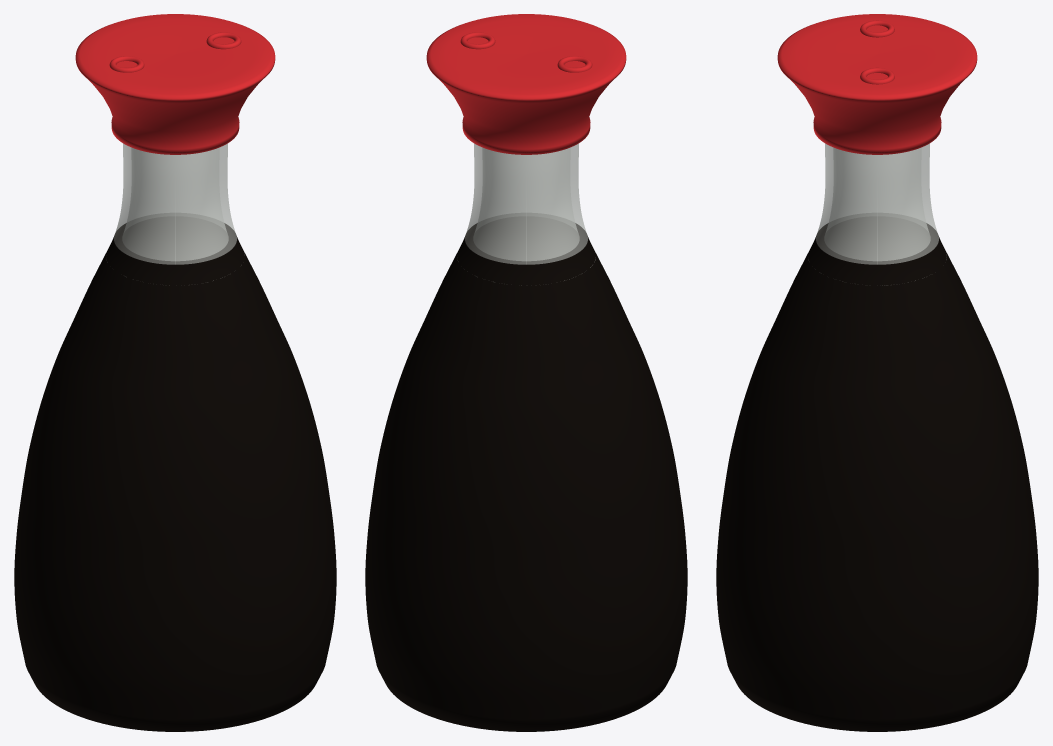
The model's file is sojasaucen-flasche_V5.glb.
3 views of the same model, side by side, from view 1: azimuth 30°, elevation 25°; view 2: azimuth 150°, elevation 25°; view 3: azimuth 270°, elevation 25° (orthographic).
Visible parts, largest first — view 1: bottle_body, cap, bottle_neck; view 2: bottle_body, cap, bottle_neck; view 3: bottle_body, cap, bottle_neck.
Boxes of the visible parts, left/top/right/bottom form: bottle_body: left=14, top=216, right=336, bottom=731; cap: left=75, top=14, right=275, bottom=154; bottle_neck: left=107, top=143, right=236, bottom=280; bottle_body: left=365, top=216, right=687, bottom=731; cap: left=426, top=14, right=626, bottom=154; bottle_neck: left=457, top=143, right=595, bottom=280; bottle_body: left=716, top=216, right=1038, bottom=731; cap: left=777, top=14, right=977, bottom=154; bottle_neck: left=808, top=143, right=946, bottom=280.
Size of the model in its own units: 0.0662 by 0.1417 by 0.0662.
